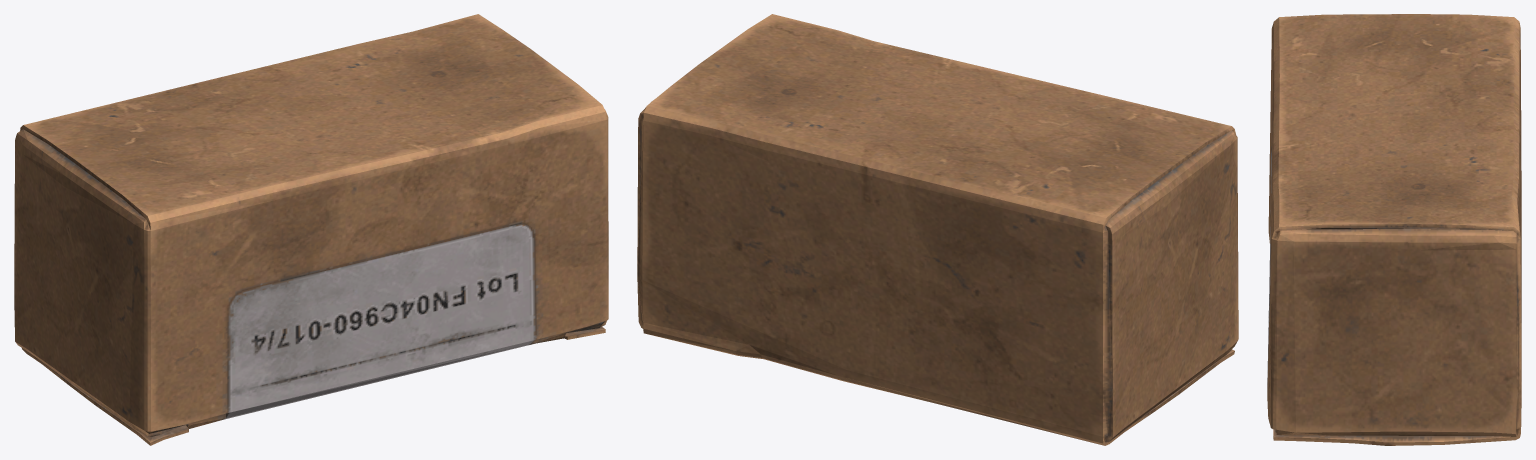
3 views of the same model, side by side, from view 1: azimuth 30°, elevation 25°; view 2: azimuth 150°, elevation 25°; view 3: azimuth 270°, elevation 25° (orthographic). The views are drawn at different scales.
Visible parts, largest first — view 1: TW_657025281419851aef03e71b_PZ_Import; view 2: TW_657025281419851aef03e71b_PZ_Import; view 3: TW_657025281419851aef03e71b_PZ_Import.
Boxes of the visible parts, <box> form: TW_657025281419851aef03e71b_PZ_Import: <box>14,14,608,445</box>; TW_657025281419851aef03e71b_PZ_Import: <box>637,14,1238,445</box>; TW_657025281419851aef03e71b_PZ_Import: <box>1267,14,1521,445</box>.
Size of the model in its own units: 0.0593 by 0.0293 by 0.0281.
Materials: 1 (1 with a texture image).
